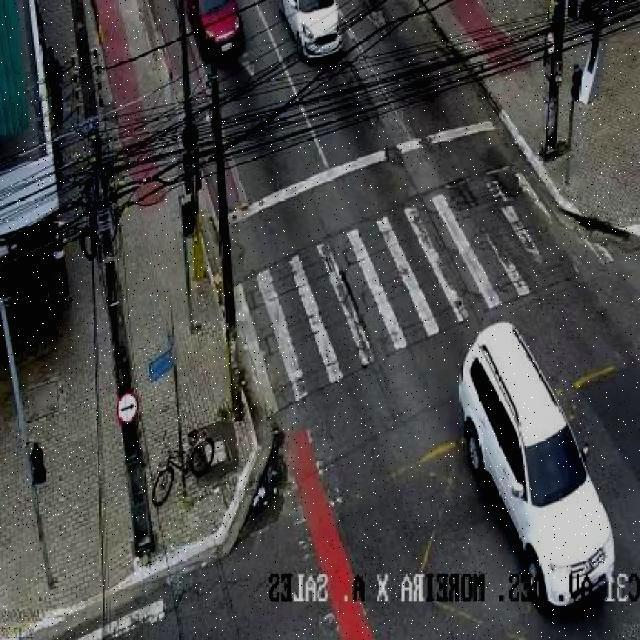Car: (458, 320, 615, 608), (278, 0, 347, 62), (186, 0, 248, 59)
Cycle: (148, 428, 215, 507)
